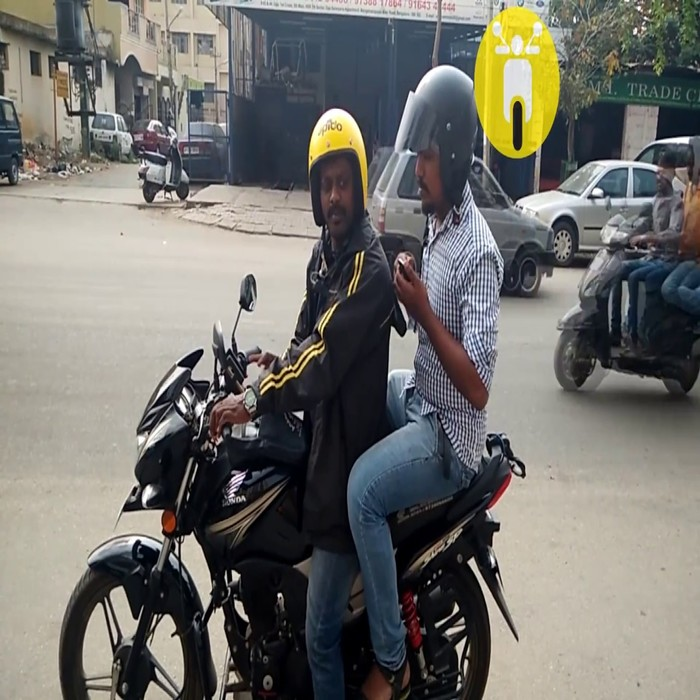h: (397, 64, 479, 218), (308, 104, 371, 230)
